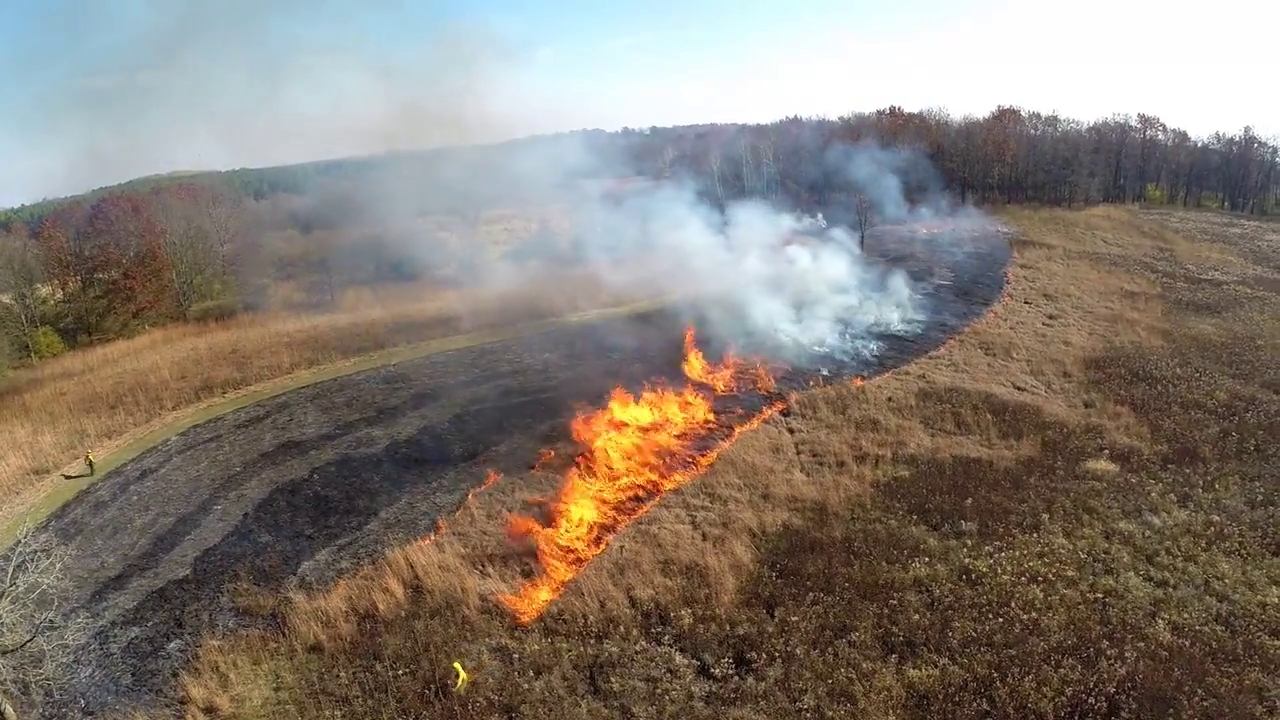forest_fire: (498, 327, 784, 624)
